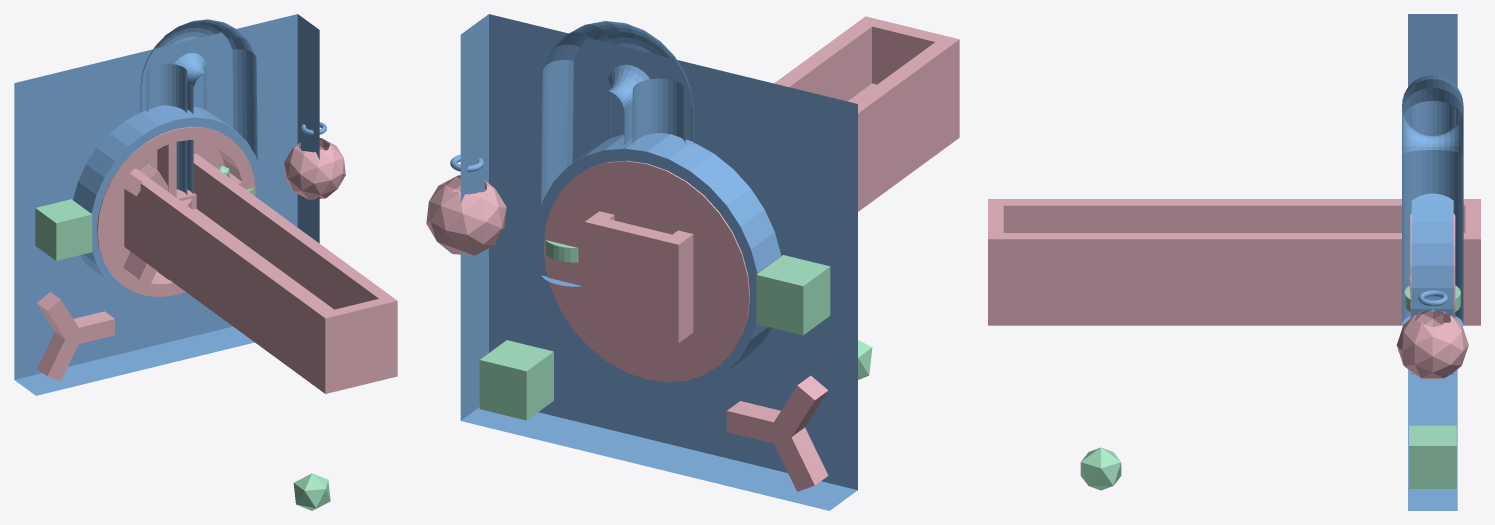
Rendered from marble.glb.
The picture shows the model from 3 angles, left to right: view 1: azimuth 30°, elevation 25°; view 2: azimuth 150°, elevation 25°; view 3: azimuth 270°, elevation 25°; orthographic projection. The views are drawn at different scales.
Parts seen in each view (by area): view 1: Cube.001, Cube.002, Cylinder.001, Ground, Cylinder.002, Cylinder.005, Goal.005, Platform, Cylinder, Goal.002, Cube, Cylinder.004; view 2: Cube.001, Cube.002, Cylinder.001, Ground, Cylinder.002, Cylinder.005, Goal.005, Goal.006, Platform, Cylinder; view 3: Cube.002, Cylinder.002, Cube.001, Ground, Platform, Goal.006, Cylinder, Goal.002.
Boxes of the visible parts, x1,y1,x2,y2 form: Cube.001: (14,14,319,395); Cube.002: (124,153,397,393); Cylinder.001: (97,126,255,296); Ground: (73,105,262,302); Cylinder.002: (140,19,257,194); Cylinder.005: (37,292,114,381); Goal.005: (35,199,92,260); Platform: (284,138,345,199); Cylinder: (146,63,187,195); Goal.002: (293,473,330,510); Cube: (157,142,176,279); Cylinder.004: (140,163,196,209); Cube.001: (460,14,857,510); Cube.002: (584,16,959,343); Cylinder.001: (543,160,750,382); Ground: (535,133,781,389); Cylinder.002: (541,21,694,286); Cylinder.005: (726,375,828,491); Goal.005: (756,255,830,335); Goal.006: (479,340,553,420); Platform: (426,175,506,255); Cylinder: (632,78,685,144); Cube.002: (988,199,1480,325); Cylinder.002: (1402,75,1463,326); Cube.001: (1408,14,1457,510); Ground: (1411,193,1453,374); Platform: (1396,311,1468,379); Goal.006: (1409,425,1456,488); Cylinder: (1409,101,1455,135); Goal.002: (1080,447,1121,490).
Size of the model in its own units: 8.78 by 9.89 by 10.34.
